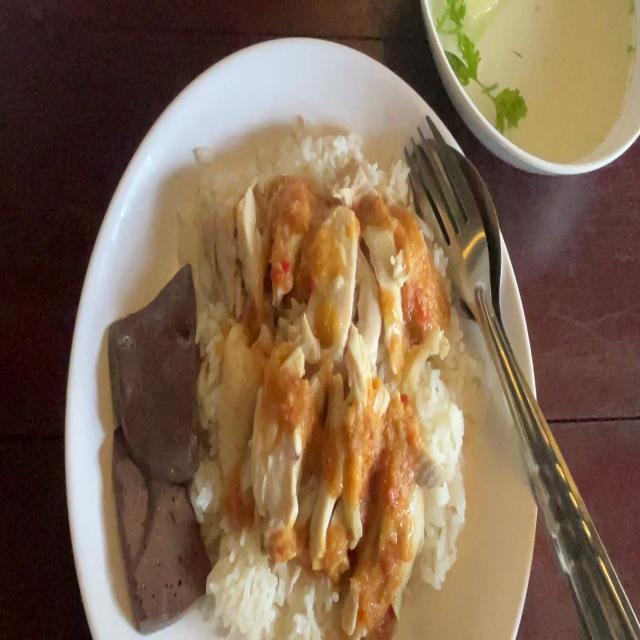boiled_chicken: (213, 196, 434, 591)
boiled_chicken_blood_jelly: (106, 259, 210, 619), (106, 424, 200, 626)
chicken_rice: (117, 137, 471, 640)
